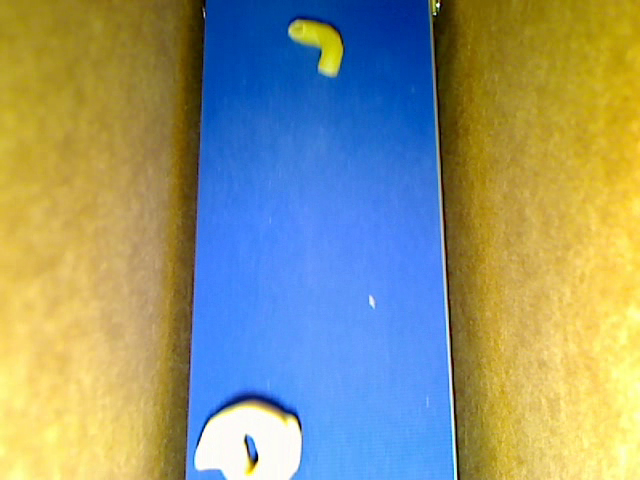elbow: (288, 19, 343, 74)
tortellini: (194, 398, 301, 479)
